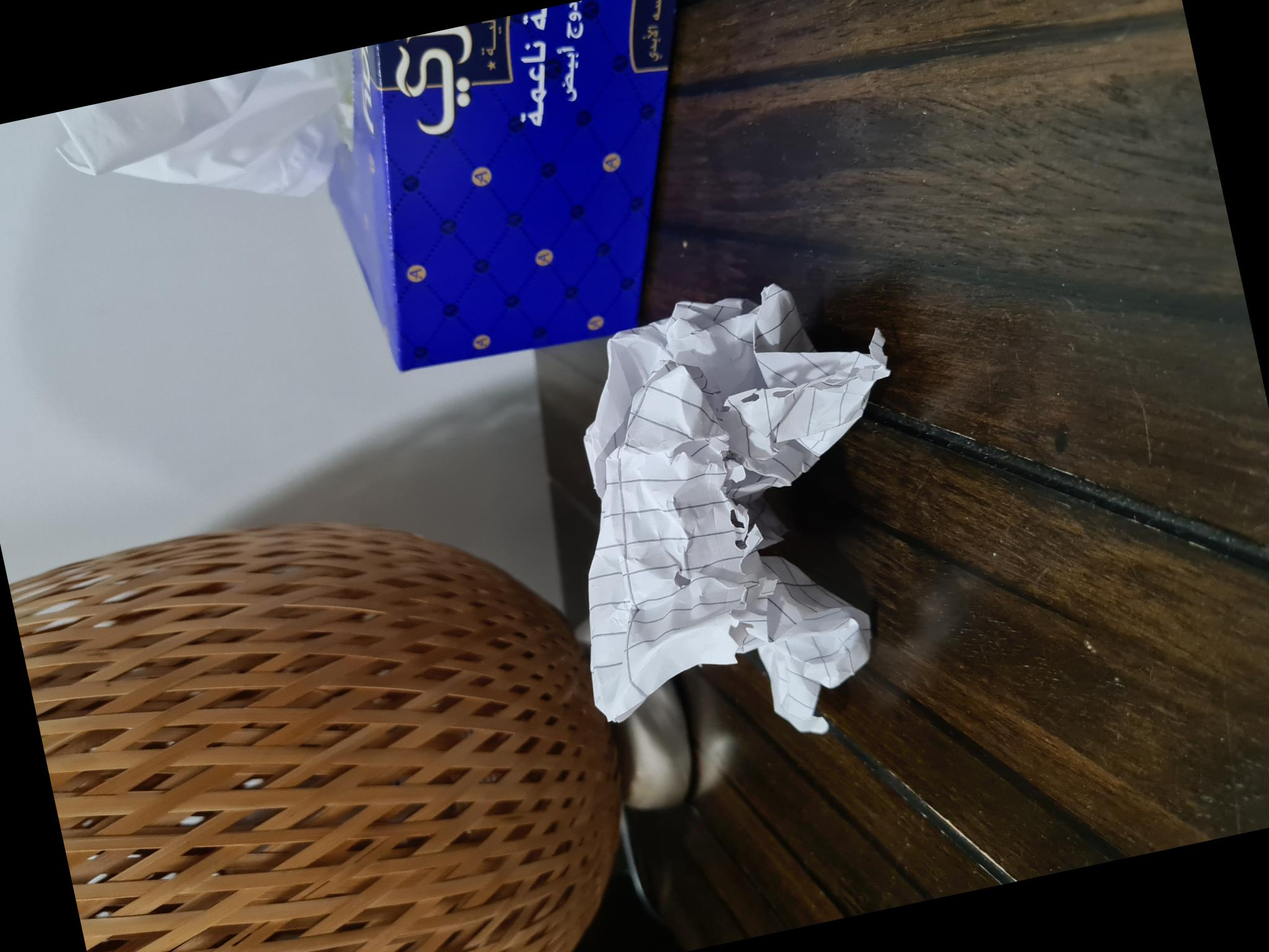Kertas: (234, 610, 708, 930)
